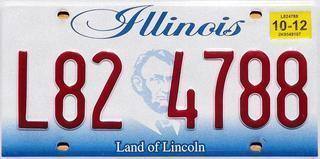placa de veiculo: (6, 0, 316, 158)
